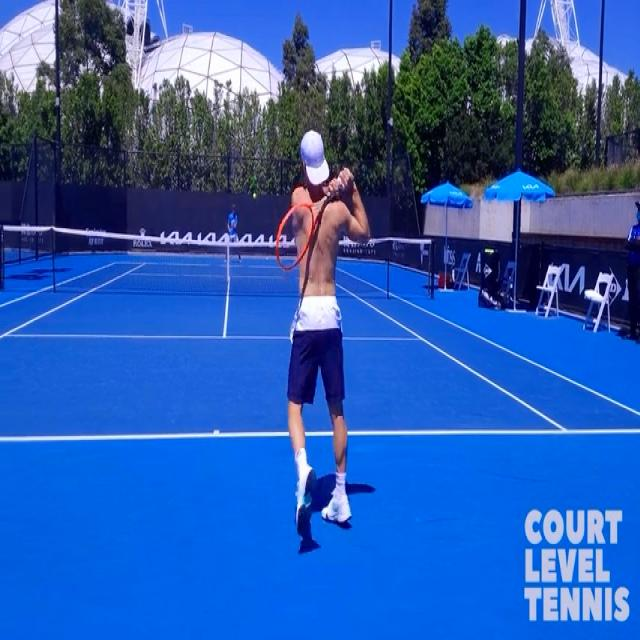backhand-finish: (276, 131, 371, 530)
